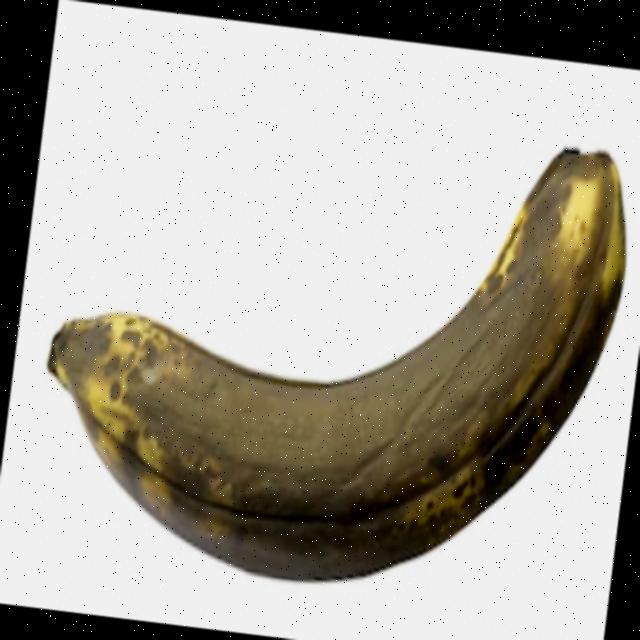Rotten: (15, 72, 640, 625)
